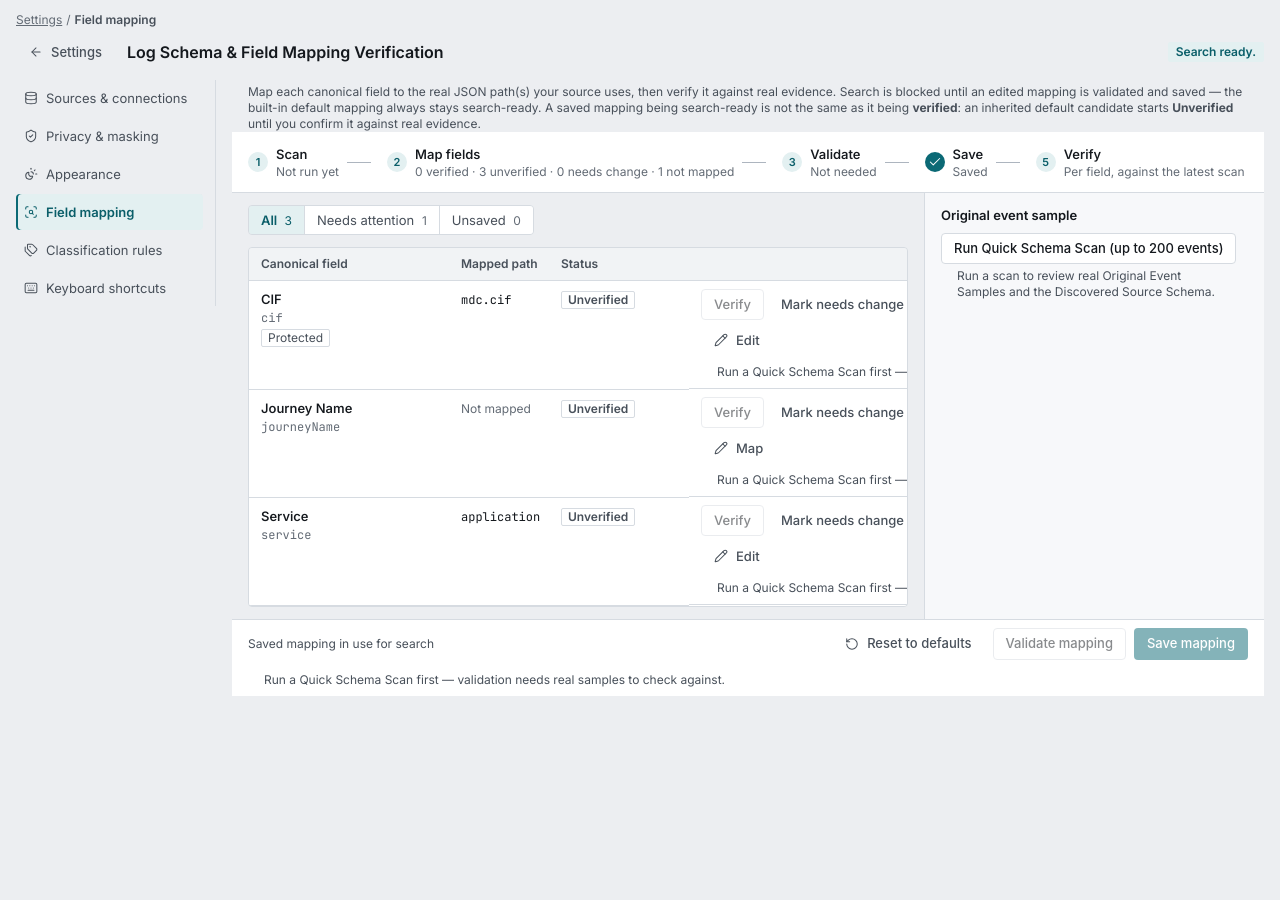
Test: FieldMappingWorkspace › runs a scan when the button is clicked and displays Original Event Samples, without ever writing to localStorage
Click the button "Run Quick Schema Scan (up to 200 events)" at (1089, 248), box [941,233,1236,264]
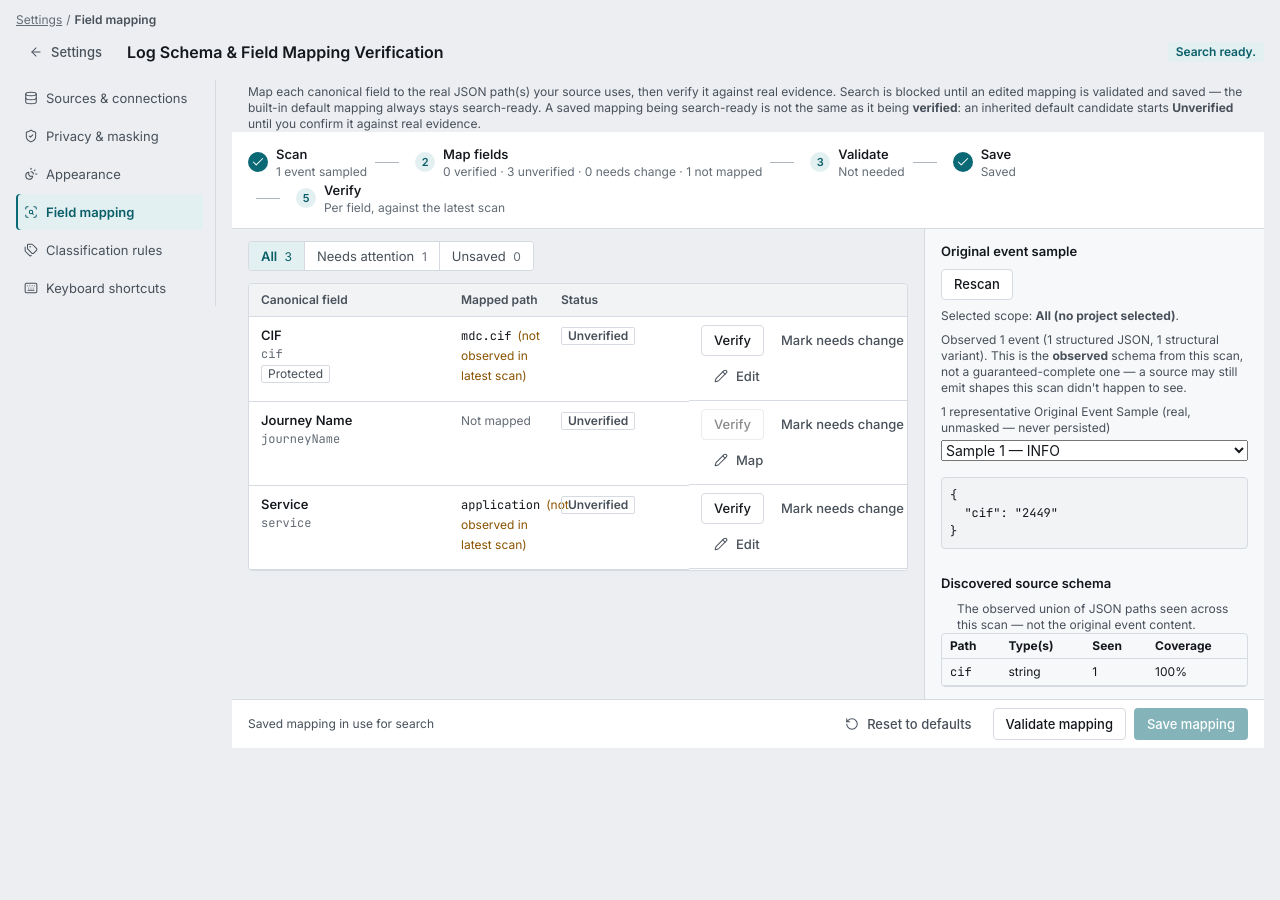
Check: the text "{ \"cif\": \"2449\" }" is shown, box [941,477,1248,549]
Check: the text "Observed 1 event" is shown, box [941,332,1248,396]
